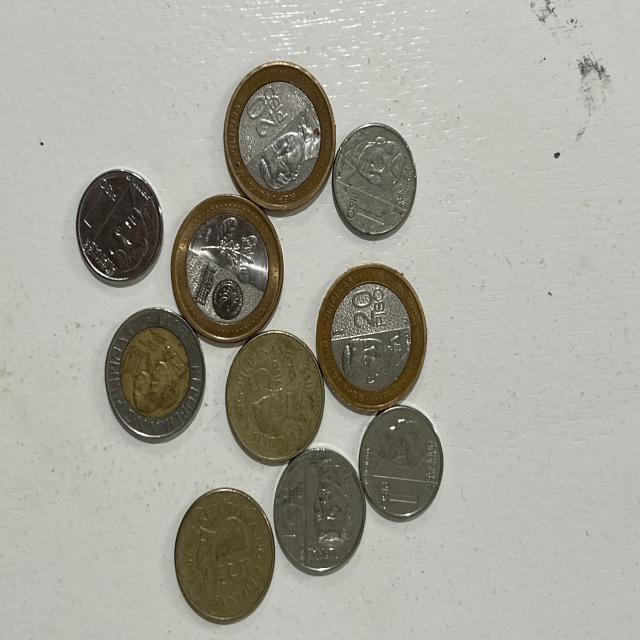10_Old_Front: (121, 332, 152, 386)
1_New_Front: (82, 175, 120, 240), (345, 188, 391, 231), (377, 474, 423, 516)
20_New_Back: (196, 214, 266, 282)
20_New_Front: (242, 89, 290, 135), (350, 285, 388, 335)
5_New_Front: (279, 484, 309, 548)
5_Old_Front: (214, 539, 262, 603), (241, 347, 288, 406)
